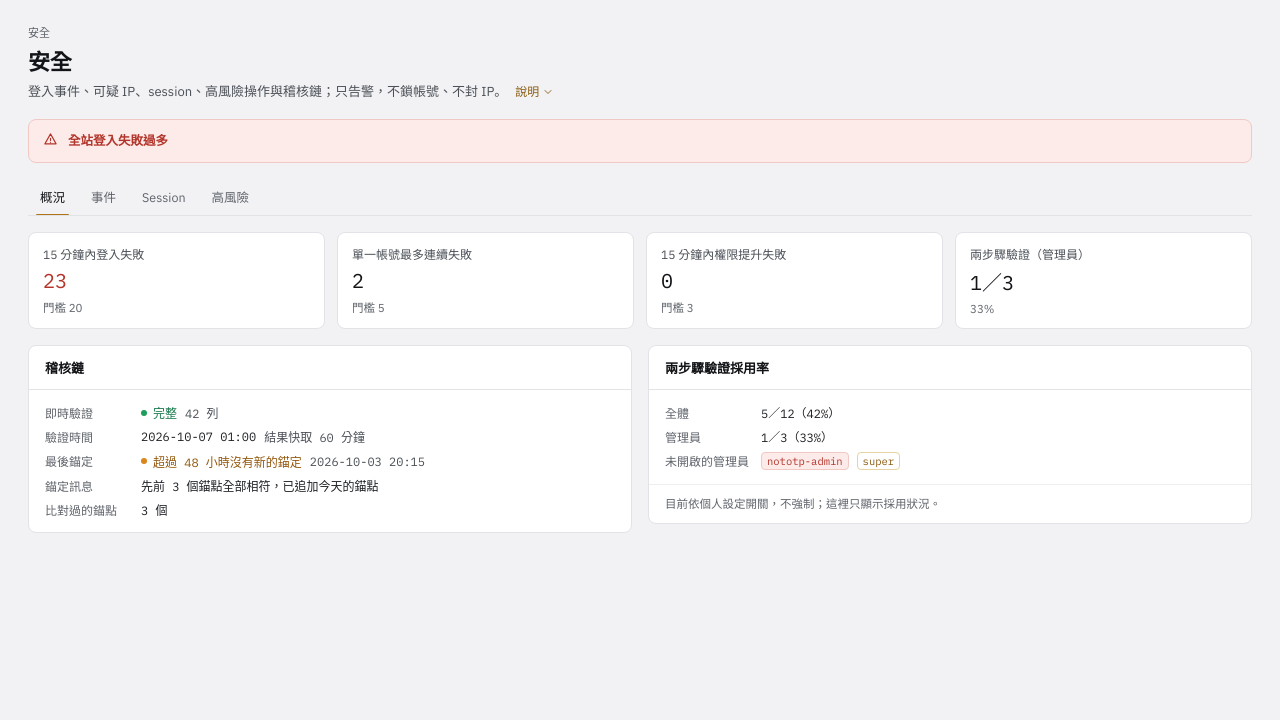
Test: 概況：觸發中的告警橫幅、計數磚（達門檻標紅）、稽核鏈與錨定、TOTP 採用率（未開的管理員標出）
Expected: the heading "安全" is shown, [28,47,72,76]
Expected: the text "全站登入失敗過多" is shown, [68,130,168,150]
Click the button "說明": {"x": 535, "y": 92} [515,82,554,101]
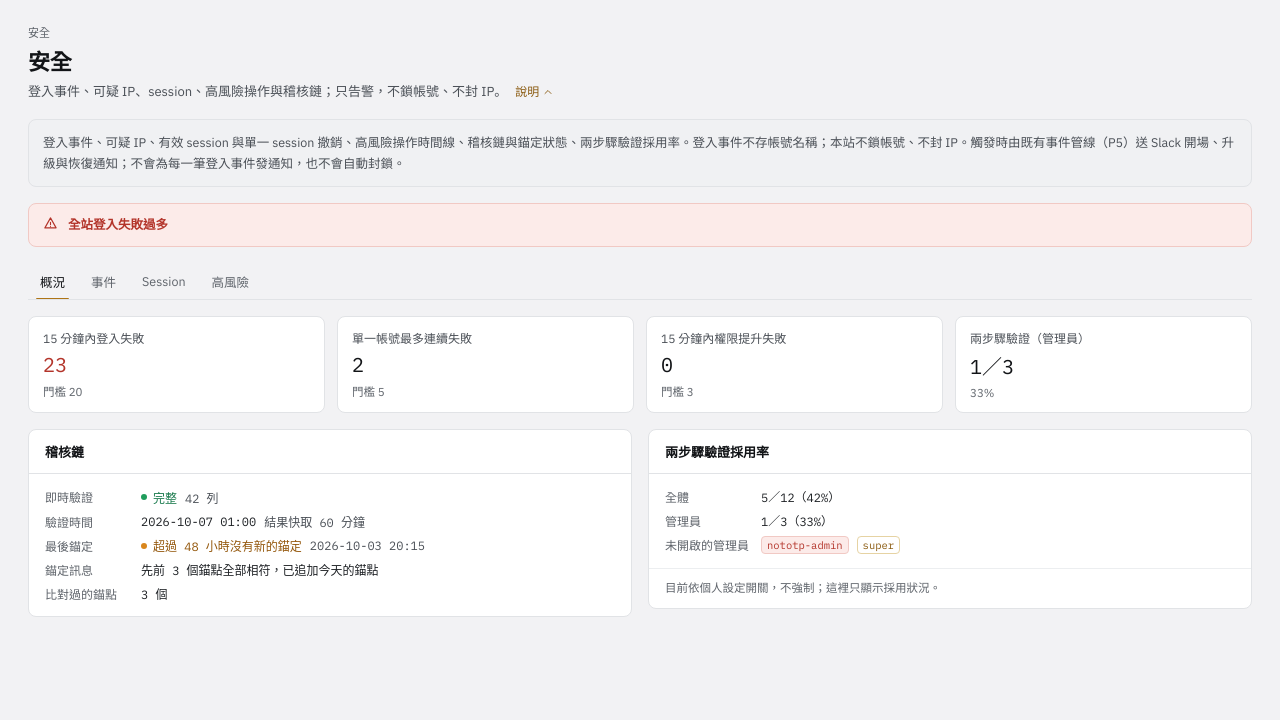
Now the text "送 Slack 開場" is shown, box [43,134,1234,171]
